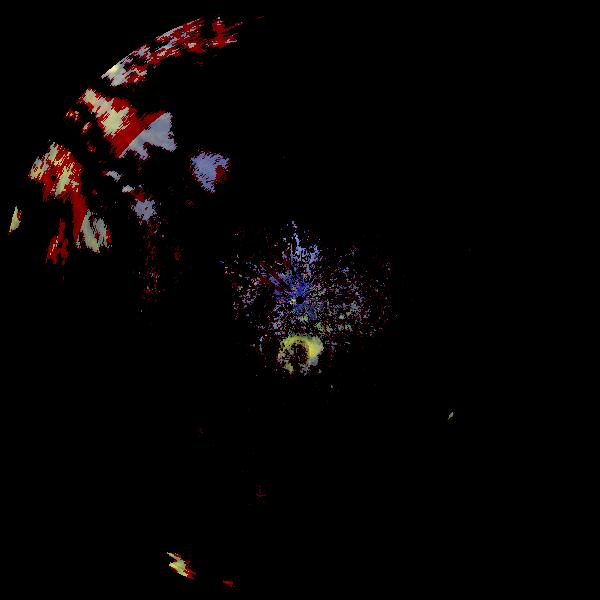roost: (264, 328, 342, 406), (435, 399, 498, 462)
